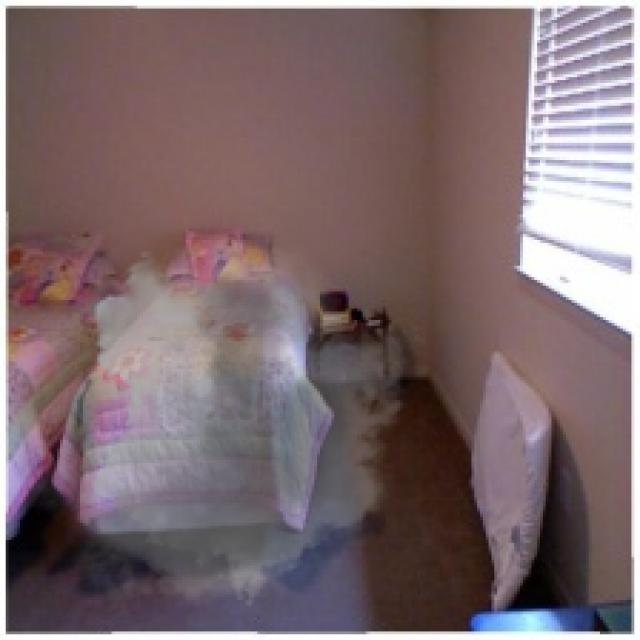smoke: (8, 237, 426, 620)
